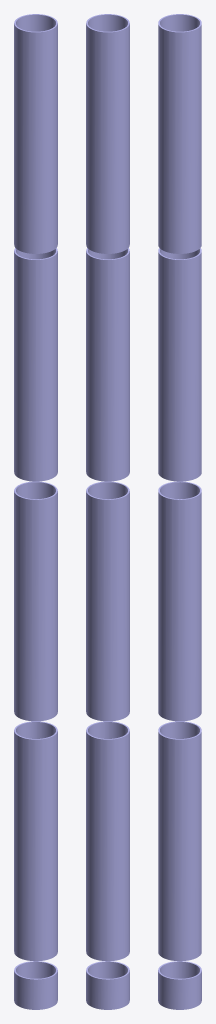
Rendered from SixInchTube.dae.
The picture shows the model from 3 angles, left to right: view 1: azimuth 30°, elevation 25°; view 2: azimuth 210°, elevation 25°; view 3: azimuth 270°, elevation 25°; orthographic projection.
Parts seen in each view (by area): view 1: Tube-36.37in-2_x0020__x0028_Default_x0029_, Tube-36.37in-1_x0020__x0028_Default_x0029_, Tube-36.37in-4_x0020__x0028_Default_x0029_, Tube-36.37in-3_x0020__x0028_Default_x0029_, Tube-5in-1_x0020__x0028_Default_x0029_; view 2: Tube-36.37in-2_x0020__x0028_Default_x0029_, Tube-36.37in-1_x0020__x0028_Default_x0029_, Tube-36.37in-4_x0020__x0028_Default_x0029_, Tube-36.37in-3_x0020__x0028_Default_x0029_, Tube-5in-1_x0020__x0028_Default_x0029_; view 3: Tube-36.37in-2_x0020__x0028_Default_x0029_, Tube-36.37in-1_x0020__x0028_Default_x0029_, Tube-36.37in-4_x0020__x0028_Default_x0029_, Tube-36.37in-3_x0020__x0028_Default_x0029_, Tube-5in-1_x0020__x0028_Default_x0029_.
Part boxes in pixels (x1,y1,x2,y2): Tube-36.37in-2_x0020__x0028_Default_x0029_: [14, 481, 57, 721]; Tube-36.37in-1_x0020__x0028_Default_x0029_: [14, 721, 57, 961]; Tube-36.37in-4_x0020__x0028_Default_x0029_: [14, 14, 57, 253]; Tube-36.37in-3_x0020__x0028_Default_x0029_: [14, 248, 57, 481]; Tube-5in-1_x0020__x0028_Default_x0029_: [14, 961, 57, 1009]; Tube-36.37in-2_x0020__x0028_Default_x0029_: [86, 481, 129, 721]; Tube-36.37in-1_x0020__x0028_Default_x0029_: [86, 721, 129, 961]; Tube-36.37in-4_x0020__x0028_Default_x0029_: [86, 14, 129, 253]; Tube-36.37in-3_x0020__x0028_Default_x0029_: [86, 248, 129, 481]; Tube-5in-1_x0020__x0028_Default_x0029_: [86, 961, 129, 1009]; Tube-36.37in-2_x0020__x0028_Default_x0029_: [158, 481, 201, 721]; Tube-36.37in-1_x0020__x0028_Default_x0029_: [158, 721, 201, 961]; Tube-36.37in-4_x0020__x0028_Default_x0029_: [158, 14, 201, 253]; Tube-36.37in-3_x0020__x0028_Default_x0029_: [158, 248, 201, 481]; Tube-5in-1_x0020__x0028_Default_x0029_: [158, 961, 201, 1009].
Size of the model in its own units: 165 by 4076 by 165.
